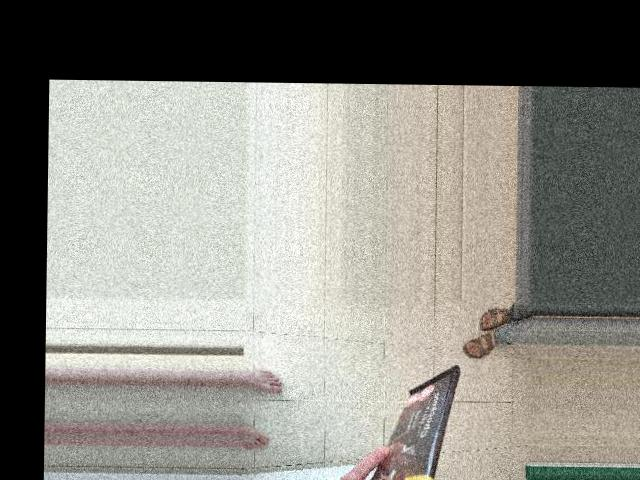chocolate: (314, 348, 467, 447)
